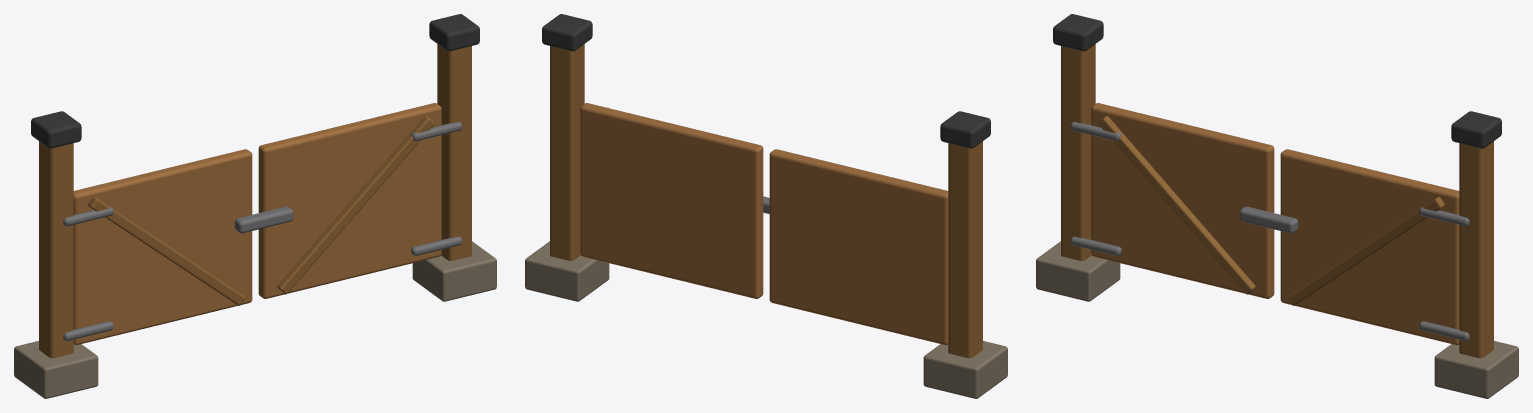
Rendered from farm-gate.glb.
3 views of the same model, side by side, from view 1: azimuth 30°, elevation 25°; view 2: azimuth 150°, elevation 25°; view 3: azimuth 330°, elevation 25° (orthographic).
Parts seen in each view (by area): view 1: farm-gate-farm-wood, farm-gate-farm-wood-dark, farm-gate-farm-stone, farm-gate-farm-metal, farm-gate-farm-roof-slate; view 2: farm-gate-farm-wood, farm-gate-farm-wood-dark, farm-gate-farm-stone, farm-gate-farm-roof-slate; view 3: farm-gate-farm-wood, farm-gate-farm-wood-dark, farm-gate-farm-stone, farm-gate-farm-metal, farm-gate-farm-roof-slate.
Part boxes in pixels (x1,y1,x2,y2): farm-gate-farm-wood: (73, 103, 441, 345); farm-gate-farm-wood-dark: (39, 44, 471, 358); farm-gate-farm-stone: (14, 241, 496, 398); farm-gate-farm-metal: (63, 122, 462, 340); farm-gate-farm-roof-slate: (31, 14, 479, 148); farm-gate-farm-wood: (580, 103, 948, 345); farm-gate-farm-wood-dark: (550, 44, 982, 358); farm-gate-farm-stone: (525, 241, 1007, 398); farm-gate-farm-roof-slate: (542, 14, 990, 148); farm-gate-farm-wood: (1091, 103, 1459, 345); farm-gate-farm-wood-dark: (1061, 44, 1493, 358); farm-gate-farm-stone: (1036, 241, 1518, 398); farm-gate-farm-metal: (1070, 122, 1469, 340); farm-gate-farm-roof-slate: (1053, 14, 1501, 148).
Size of the model in its own units: 4.55 by 2.51 by 0.55.
